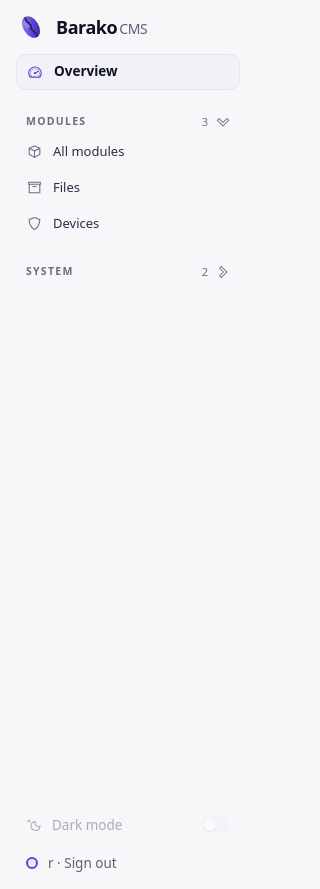
Test: the rail › folds the Modules group, with its count, and opens it again
This screenshot has width=320, height=889.
Expected: the link "Files" is shown, [26,178,80,196]
Click the button "Modules 3" at (128, 122), box [16,110,240,134]
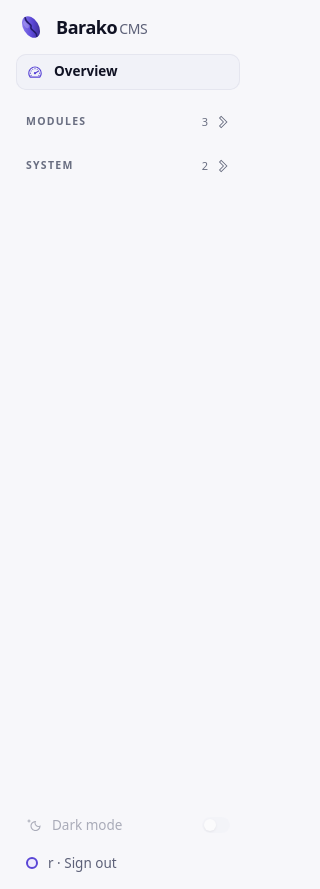
Now the button "Modules 3" is collapsed
Now the link "Files" is gone
Click the button "Modules 3" at (128, 122), box [16,110,240,134]
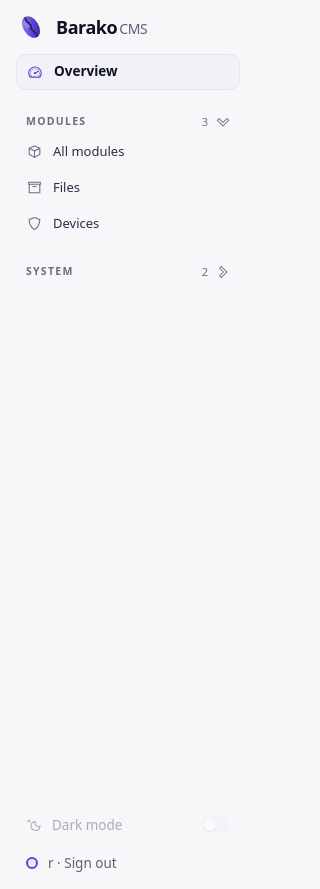
Now the link "Files" is shown, box [26,178,80,196]
